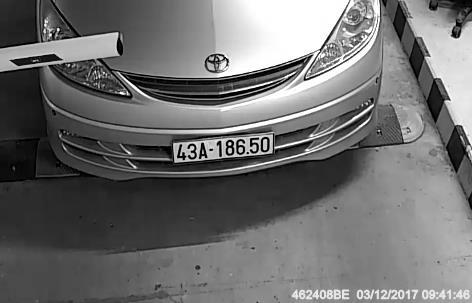License-plate: (167, 133, 282, 170)
